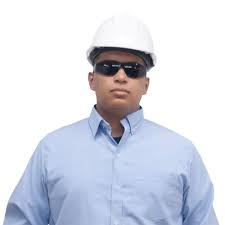Casco de seguridad: (87, 14, 155, 69)
